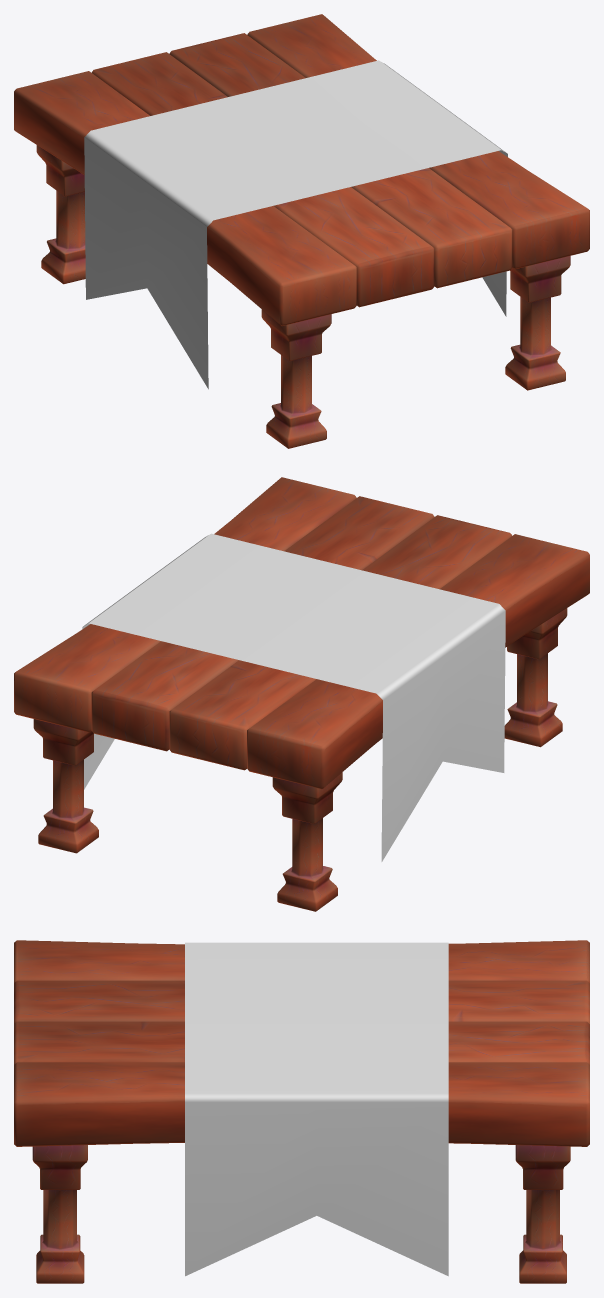
The model's file is table 1.fbx.
3 views of the same model, one above another, from view 1: azimuth 30°, elevation 25°; view 2: azimuth 150°, elevation 25°; view 3: azimuth 270°, elevation 25° (orthographic). The views are drawn at different scales.
Parts seen in each view (by area): view 1: l_leg.001, Plane.024; view 2: l_leg.001, Plane.024; view 3: Plane.024, l_leg.001.
Boxes of the visible parts, left/top/right/bottom form: l_leg.001: left=14, top=14, right=589, bottom=448; Plane.024: left=84, top=60, right=507, bottom=389; l_leg.001: left=14, top=477, right=589, bottom=911; Plane.024: left=82, top=533, right=505, bottom=861; Plane.024: left=185, top=942, right=448, bottom=1276; l_leg.001: left=14, top=940, right=589, bottom=1283.
Size of the model in its own units: 520 by 287 by 777.
